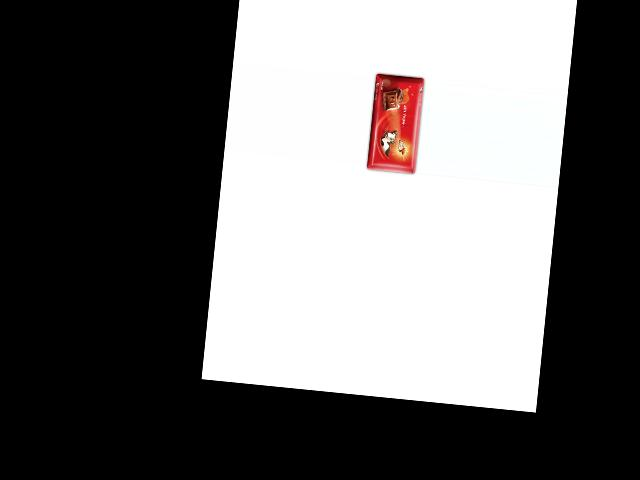chocolate: (362, 71, 424, 179)
